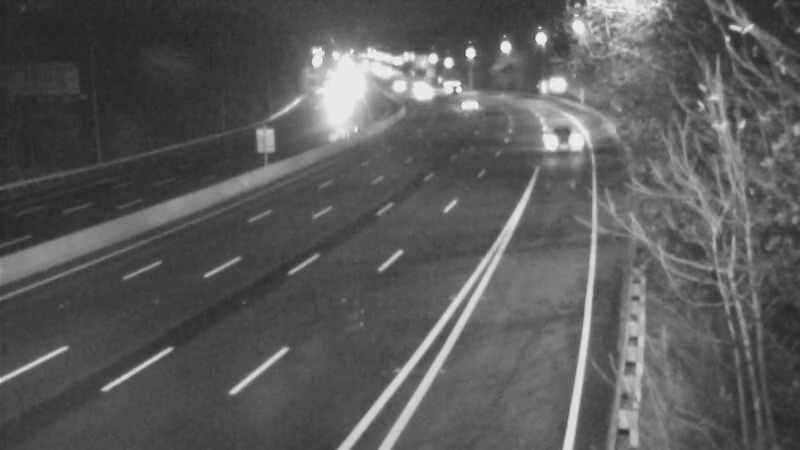vehicle: (423, 58, 473, 108), (373, 59, 423, 109), (392, 61, 442, 111), (399, 67, 449, 117), (439, 80, 489, 130), (539, 116, 589, 166), (309, 74, 359, 124)
